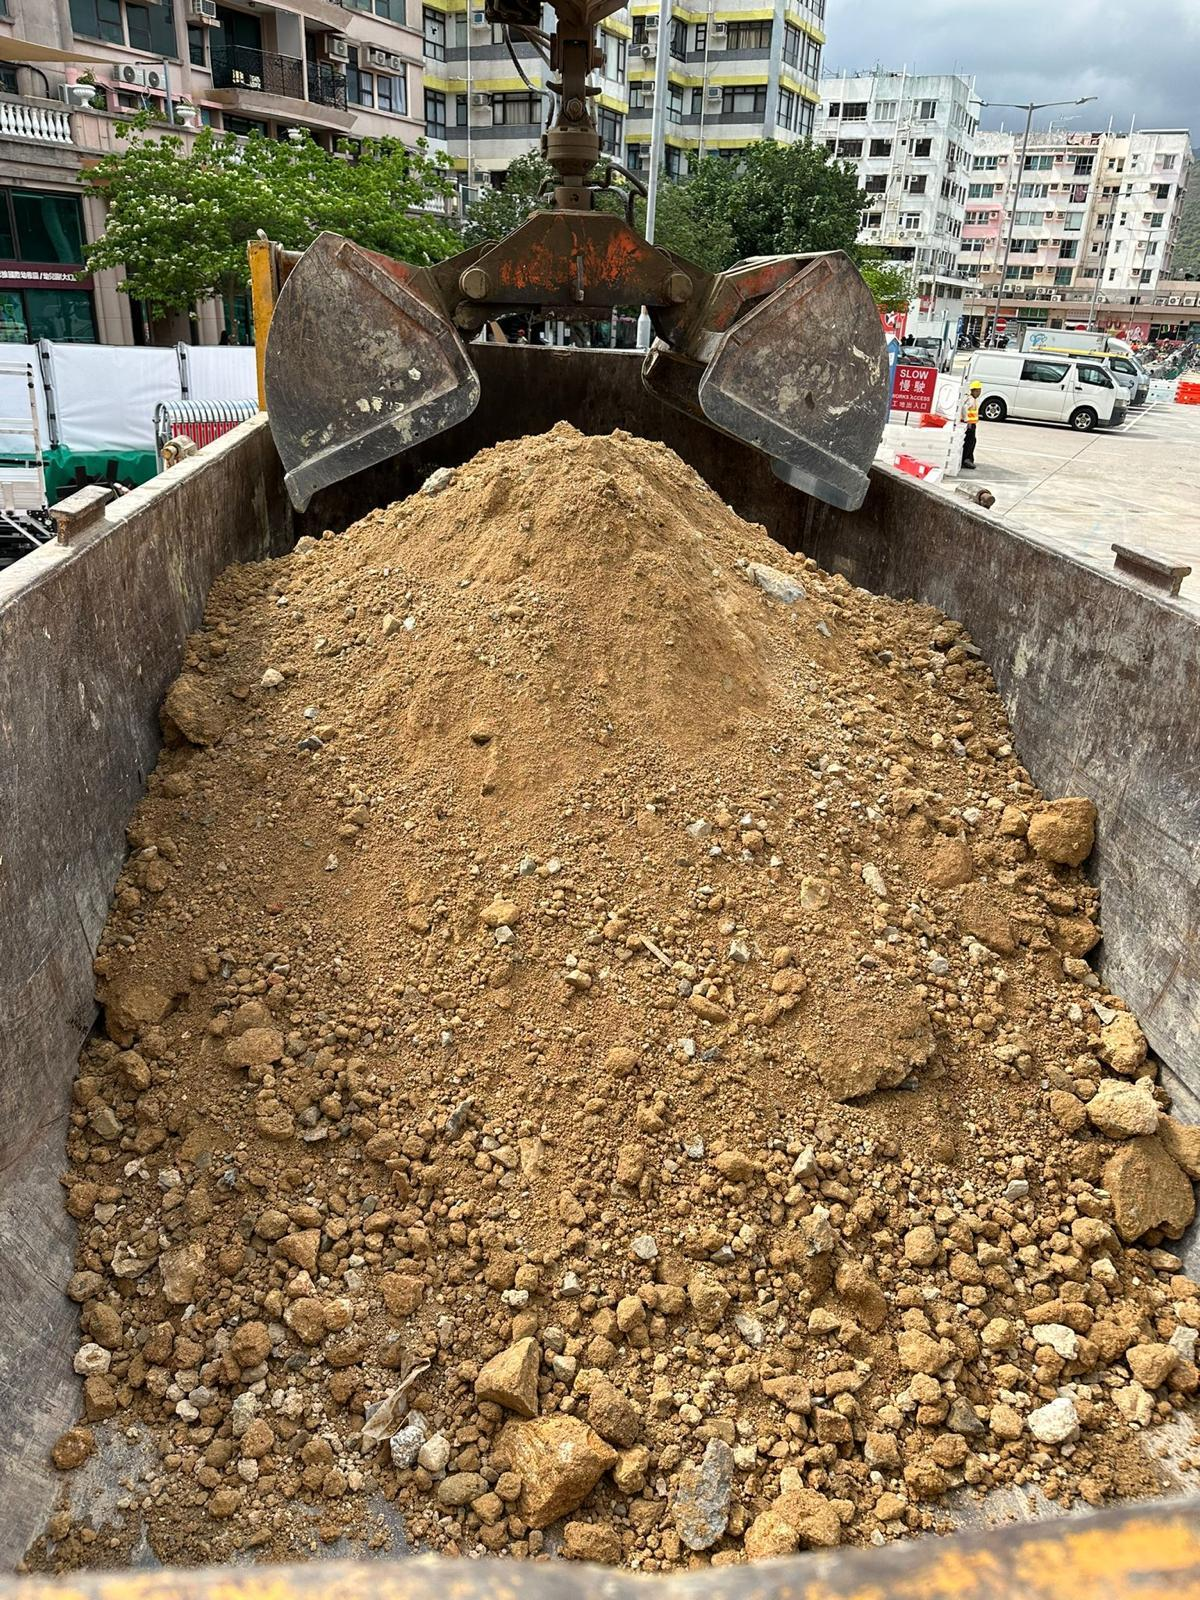dry: (105, 435, 1187, 1490)
